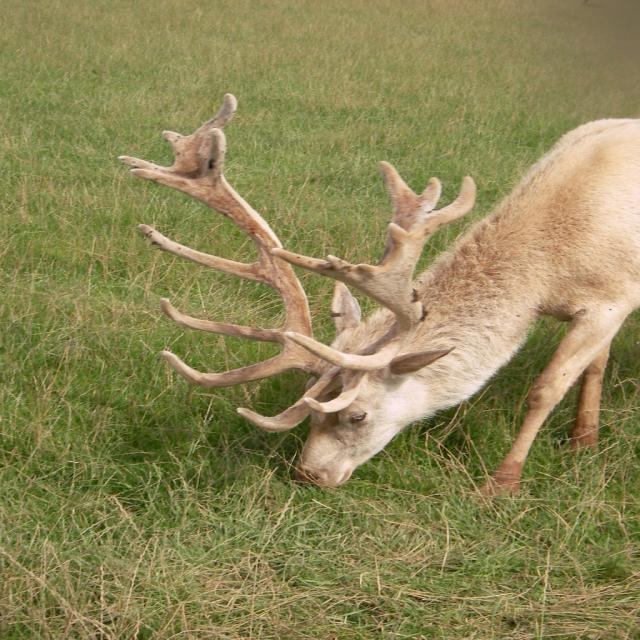Deer: (112, 93, 640, 504)
